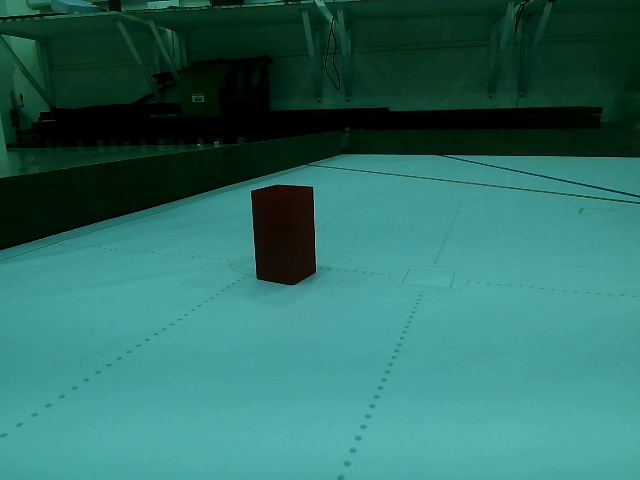red: (250, 188, 318, 281)
